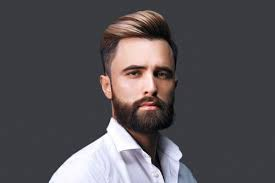b.y: (130, 98, 167, 132)
